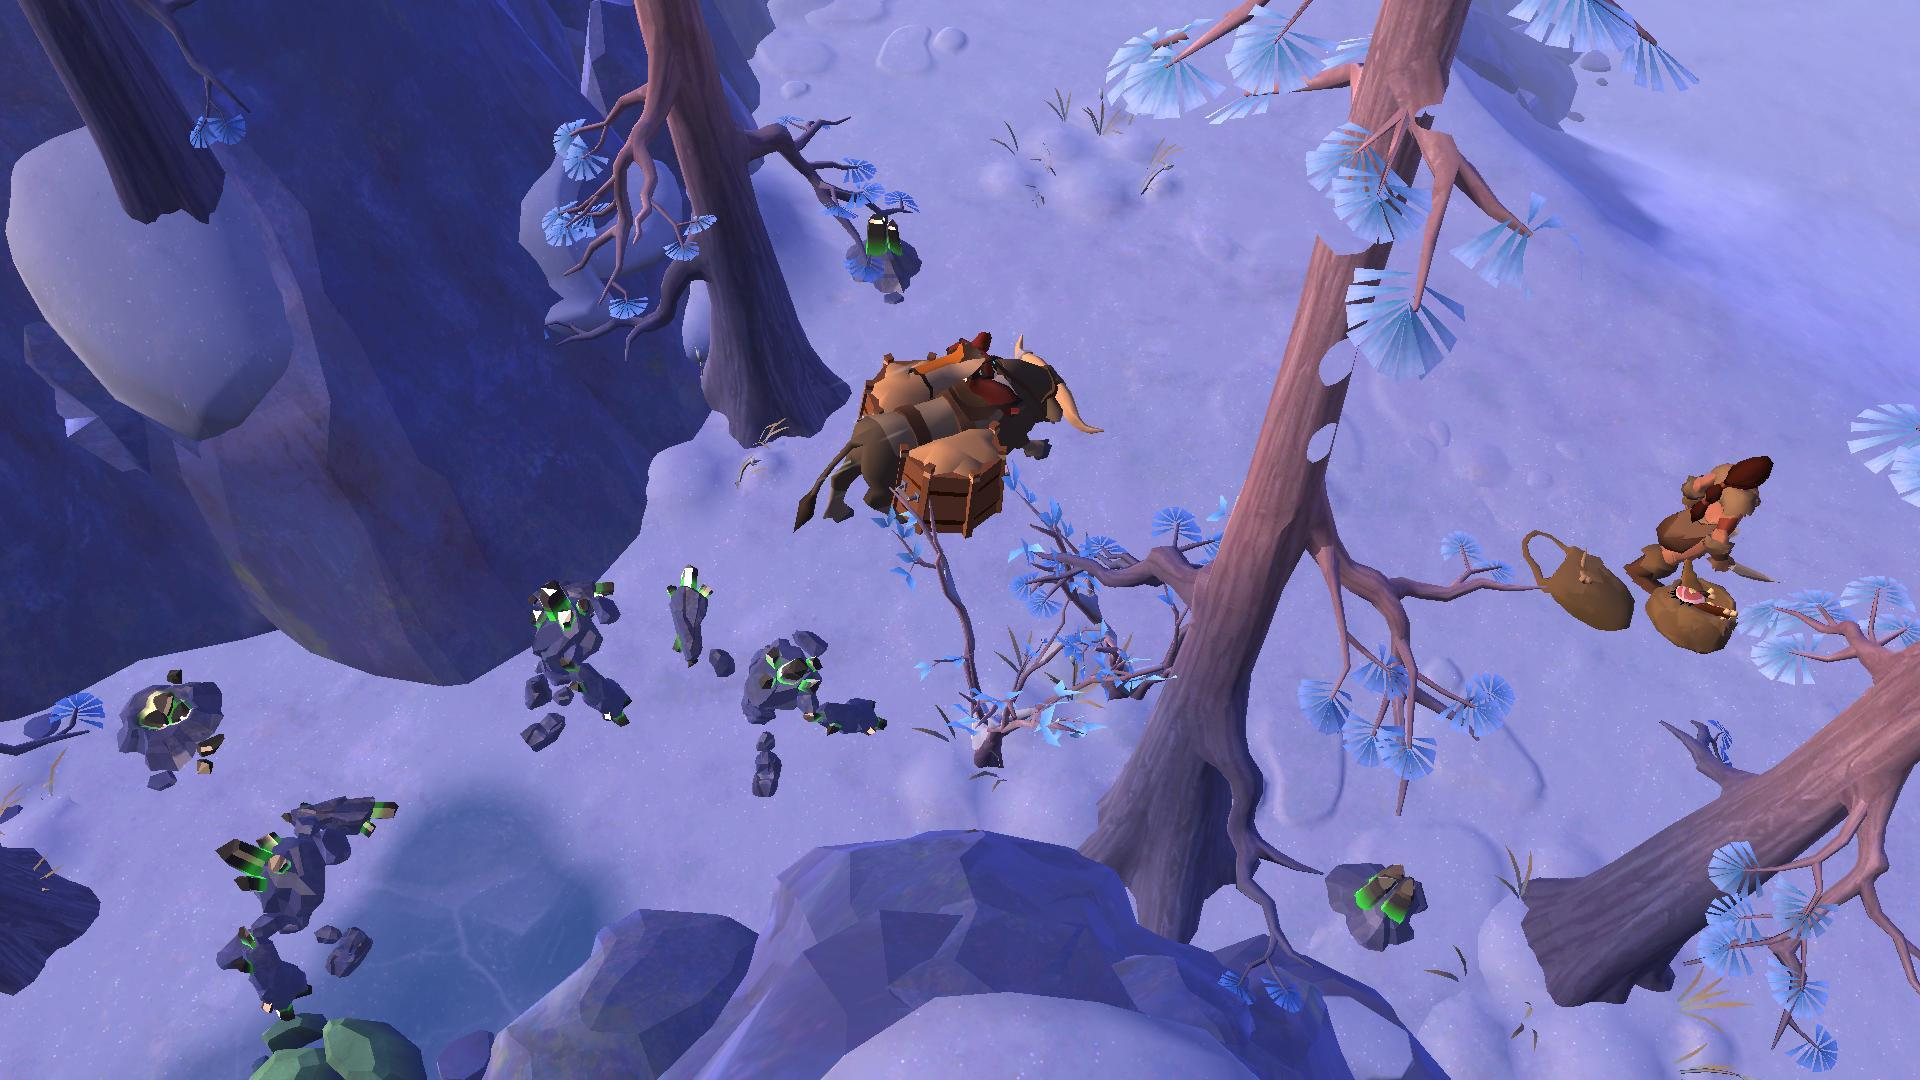enemy_factionKeeper: (1636, 435, 1780, 605)
ore_t3: (1354, 864, 1414, 924), (865, 211, 905, 268)
rock_t3: (236, 1005, 429, 1080)
